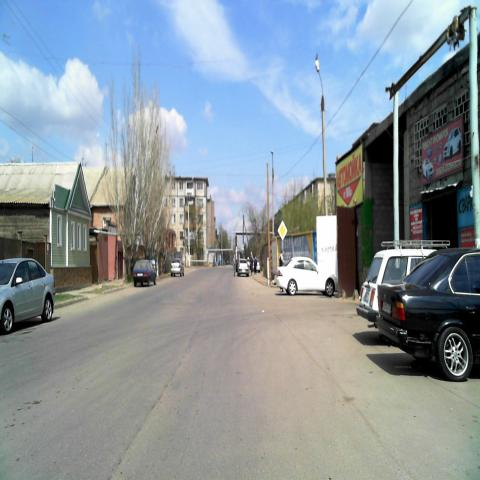2_1: (277, 219, 288, 241)
